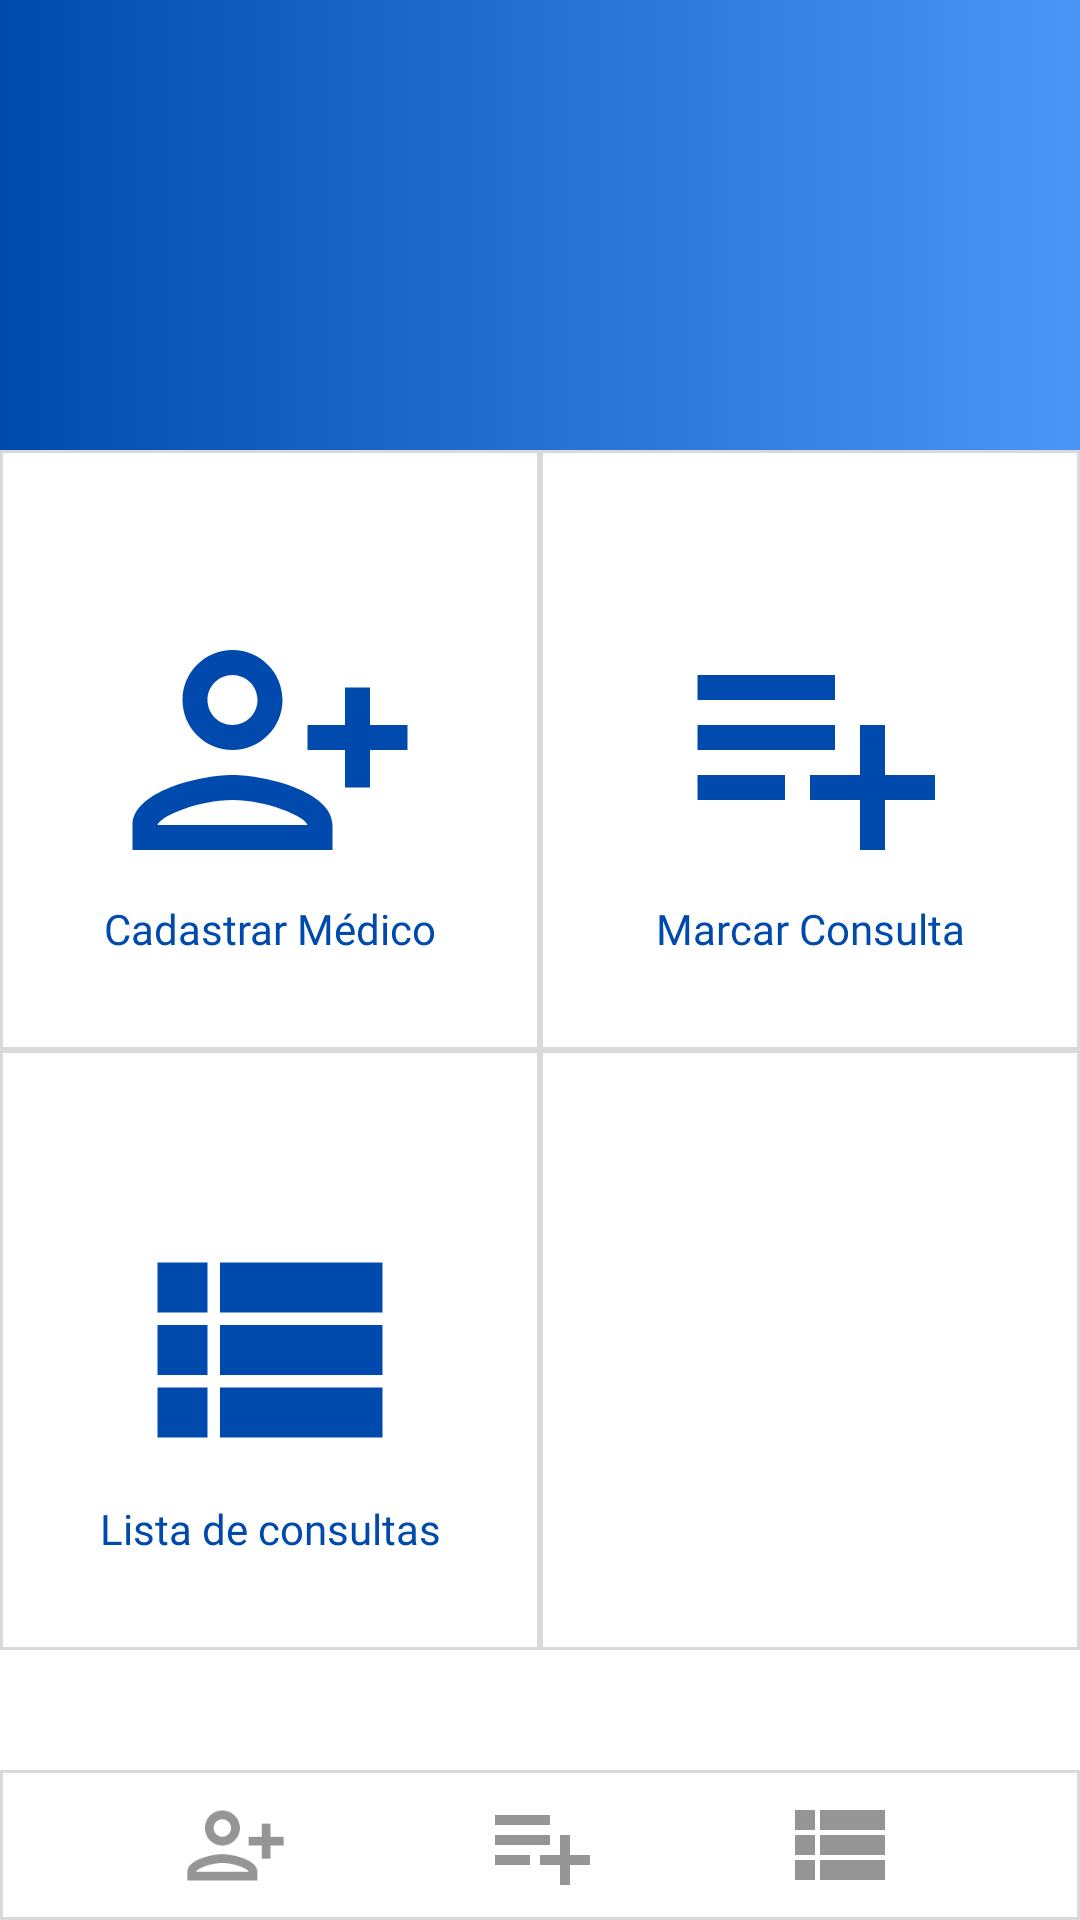

Screen size 1080 x 1920. Icon name, then its center in pixels as point (x, y):
person add two: point (235, 1845)
playlist add: point (816, 762)
playlist add two: point (542, 1850)
view list two: point (840, 1845)
